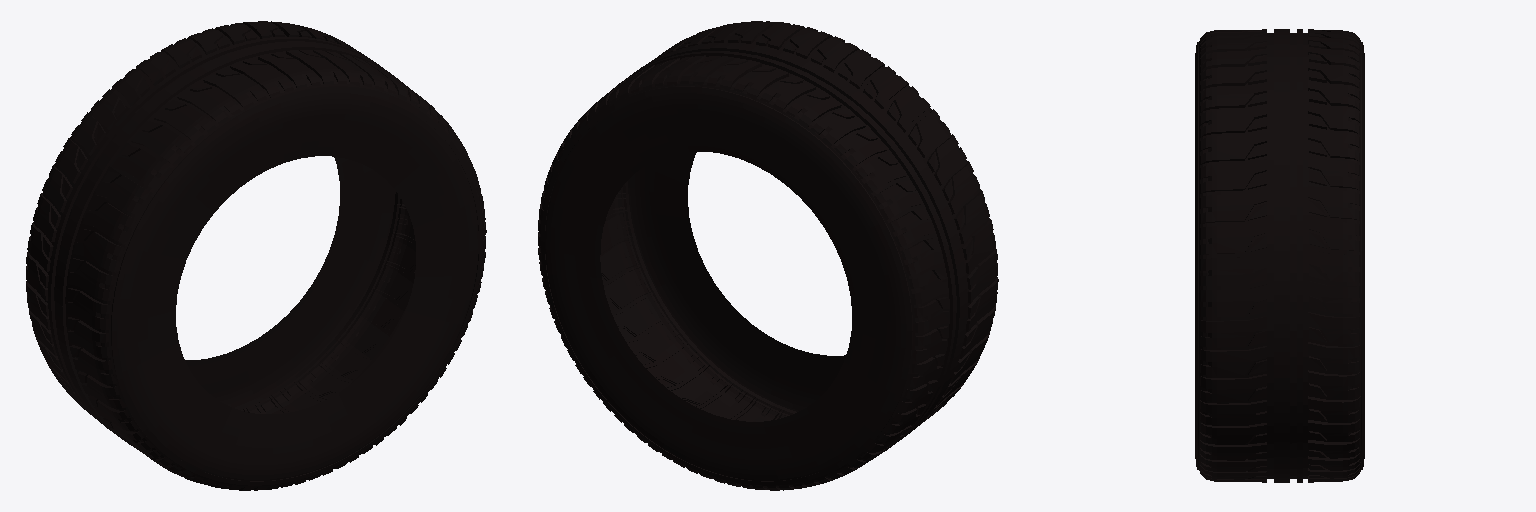
Rendered from Wheel.obj.
The picture shows the model from 3 angles: view 1: azimuth 30°, elevation 25°; view 2: azimuth 150°, elevation 25°; view 3: azimuth 270°, elevation 25°; orthographic projection.
Visible parts, largest first — view 1: Front_Right_tire_wheels_1.002; view 2: Front_Right_tire_wheels_1.002; view 3: Front_Right_tire_wheels_1.002.
Boxes of the visible parts, x1=… form: Front_Right_tire_wheels_1.002: x1=26, y1=21, x2=486, y2=490; Front_Right_tire_wheels_1.002: x1=538, y1=21, x2=998, y2=490; Front_Right_tire_wheels_1.002: x1=1195, y1=29, x2=1364, y2=482.
Size of the model in its own units: 2.06 by 2.06 by 0.7739.